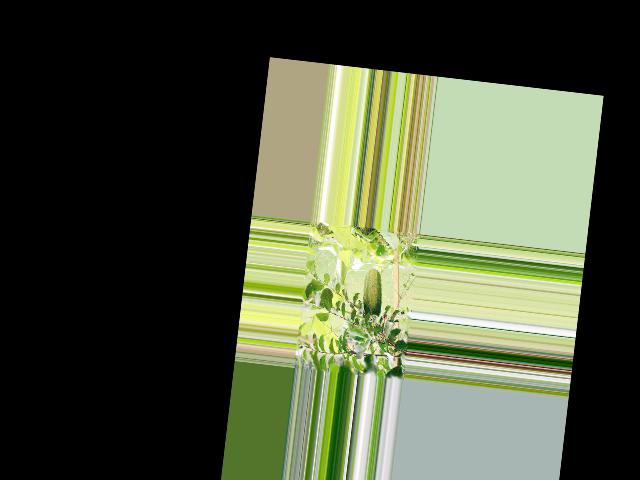cucumber: (360, 268, 386, 322)
